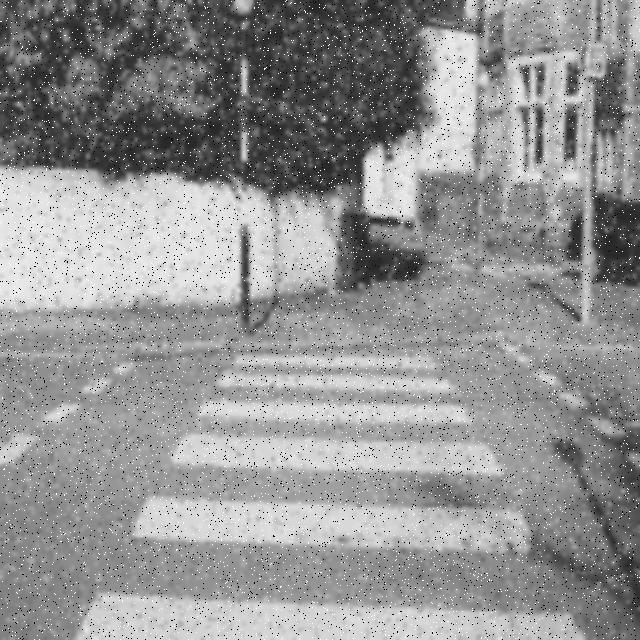crosswalk: (74, 346, 597, 637)
